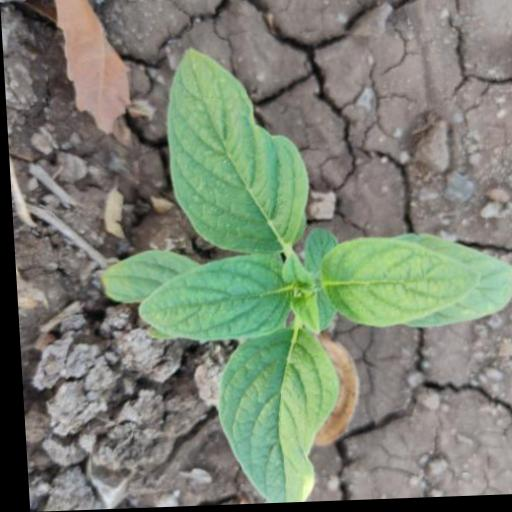crop: (83, 71, 511, 510)
